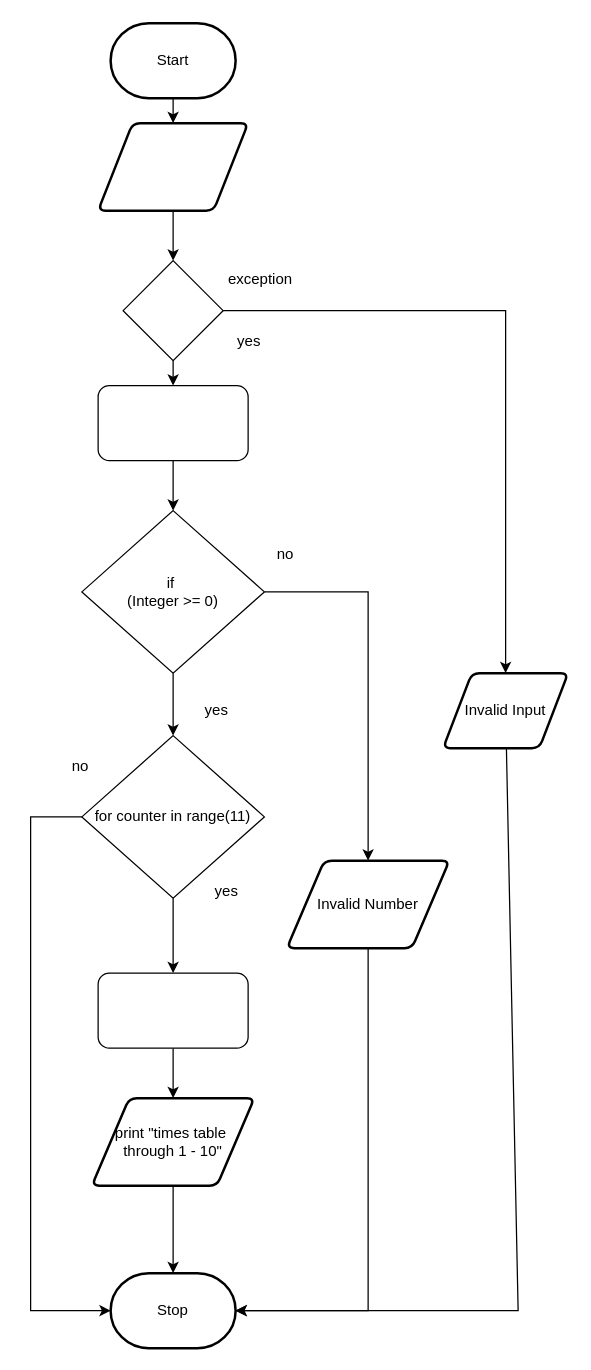
The diagram is 591 pixels wide and 1370 high, and some of its shapes have lost their labels. Each missing label, with the centre of its shape:
"convert int to string" belongs at point (172, 422).
"Get user_number" belongs at point (172, 166).
"total = counter * user_input" belongs at point (172, 1010).
"Try" belongs at point (172, 310).
